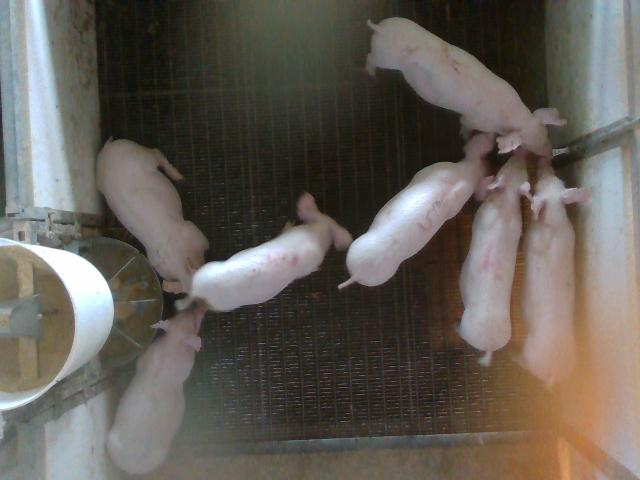pig-3: (339, 131, 495, 287)
pig-4: (458, 149, 530, 364)
pig-5: (176, 192, 352, 311)
